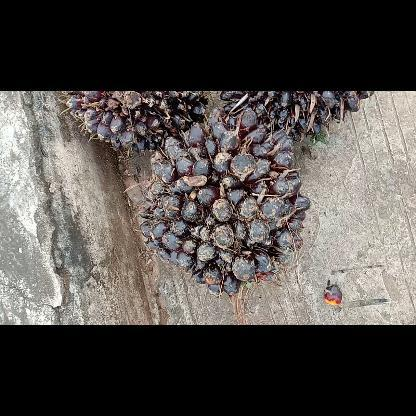TBS mentah: (138, 107, 314, 296), (58, 90, 207, 156), (217, 91, 377, 143)
